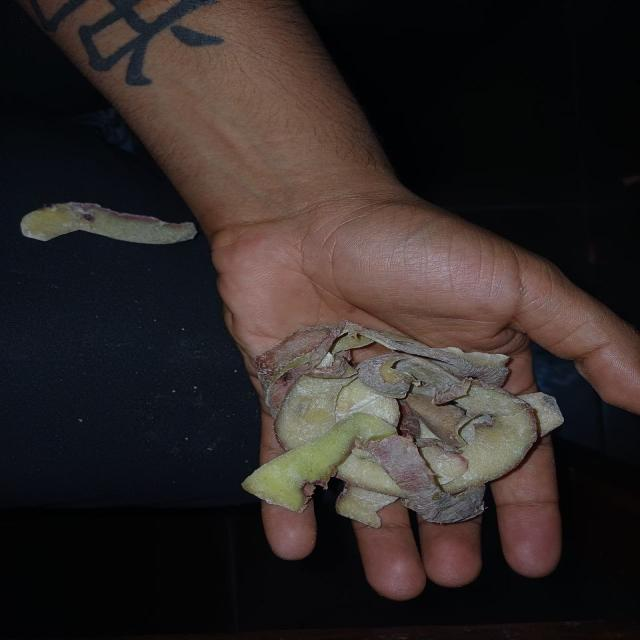organic: (244, 322, 564, 522)
